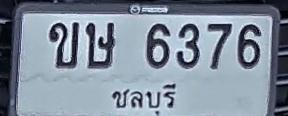3: (176, 23, 200, 68)
6: (146, 23, 170, 68), (238, 24, 260, 68)
7: (208, 23, 232, 69)
A02: (48, 22, 78, 68)
A39: (85, 22, 115, 68)
CBI: (109, 81, 182, 116)
